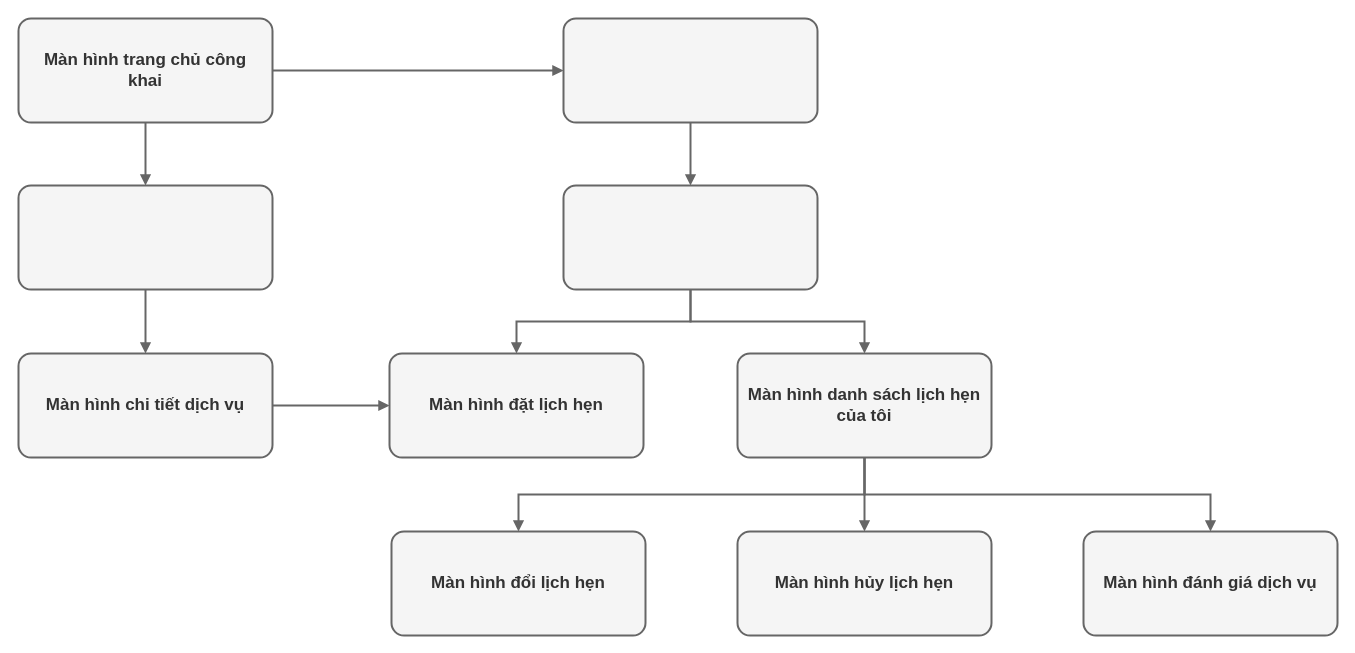
Image size: 1355x653. Some labels were removed from this diagram. Each missing label, with the box of its shape:
Màn hình danh sách dịch vụ: (17, 184, 273, 290)
Màn hình trang chính khách hàng: (562, 184, 818, 290)
Màn hình đăng nhập: (562, 17, 818, 123)
